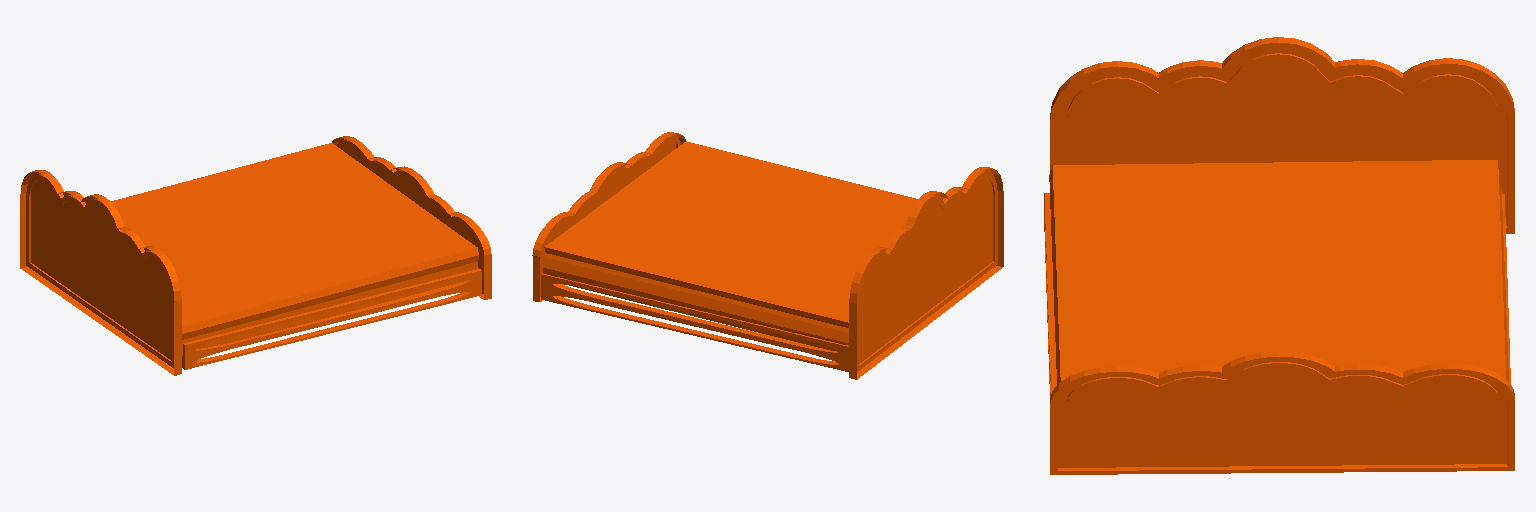
The robot description file, URDF, robot "DoubleBed_e8add7acb28e2505fd40810f48721e8b":
<?xml version="1.0" ?>
<robot name="DoubleBed_e8add7acb28e2505fd40810f48721e8b">
   <material name="obj_color">
      <color rgba="1.0 0.423529411765 0.0392156862745 1.0"/>
   </material>
   <link name="top">
      <inertial>
         <origin rpy="0.0007609137428290744 0.001155651370096826 0.001737600796526304" xyz="-0.005113216532479632 -0.0003306002671823571 0.002124065883410425"/>
         <mass value="0.6384678345643161"/>
         <inertia ixx="0.0007668111985466889" ixy="1.19669777499189e-05" ixz="7.328661943409897e-05" iyy="0.001155286456991053" iyz="-8.422857981774421e-07" izz="0.001732068253914463"/>
      </inertial>
      <visual>
         <origin rpy="0 0 0" xyz="0 0 0"/>
         <geometry>
            <mesh filename="top_watertight_tiny.stl" scale="1 1 1"/>
         </geometry>
         <material name="obj_color"/>
      </visual>
      <collision>
         <origin rpy="0 0 0" xyz="0 0 0"/>
         <geometry>
            <mesh filename="top_watertight_tiny.obj" scale="1 1 1"/>
         </geometry>
      </collision>
   </link>
   <link name="bottom">
      <inertial>
         <origin rpy="1.633333333199431e-08 1.633333333199431e-08 1.633333333362855e-08" xyz="0.3464080000000008 0.3464080000000008 0.3464080000000008"/>
         <mass value="0.0009800000000000017"/>
         <inertia ixx="1.633333333253906e-08" ixy="5.447480642029219e-19" ixz="5.447480642029219e-19" iyy="1.633333333253906e-08" iyz="5.447480642029219e-19" izz="1.633333333253906e-08"/>
      </inertial>
      <visual>
         <origin rpy="0 0 0" xyz="0 0 0"/>
         <geometry>
            <mesh filename="bottom_watertight_tiny.stl" scale="1 1 1"/>
         </geometry>
         <material name="obj_color"/>
      </visual>
   </link>
   <link name="world"/>
   <joint name="world_to_base" type="fixed">
      <origin xyz="0 0 0"/>
      <axis xyz="0 0 0"/>
      <parent link="world"/>
      <child link="bottom"/>
   </joint>
   <joint name="rotation" type="revolute">
      <origin xyz="0 0 0"/>
      <axis xyz="0 0 -1"/>
      <parent link="bottom"/>
      <child link="top"/>
      <dynamics damping="1.0" friction="1.0"/>
      <limit effort="0.1" velocity="0.1" lower="0" upper="0.001"/>
   </joint>
</robot>

--- What the picture shows (computed from the rendered views, not written in the file) ---
The picture shows the robot from 3 angles, left to right: view 1: azimuth 30°, elevation 25°; view 2: azimuth 150°, elevation 25°; view 3: azimuth 270°, elevation 25°; orthographic projection.
Robot: DoubleBed_e8add7acb28e2505fd40810f48721e8b — 3 links, 2 joints (1 revolute, 1 fixed); root link world; default pose: all joints at 0.
Visible links, largest first — view 1: top; view 2: top; view 3: top.
Boxes of the visible links, bbox=[...] form: top: bbox=[20, 136, 491, 375]; top: bbox=[532, 132, 1003, 379]; top: bbox=[1044, 37, 1514, 474].
Bounding box of the posed robot: 0.1453 × 0.1174 × 0.0534 m (x, y, z).
1 mesh visuals loaded from 2 distinct referenced files (1 binary STL); not drawn: 1 (reference not matched to a file when rendering).
